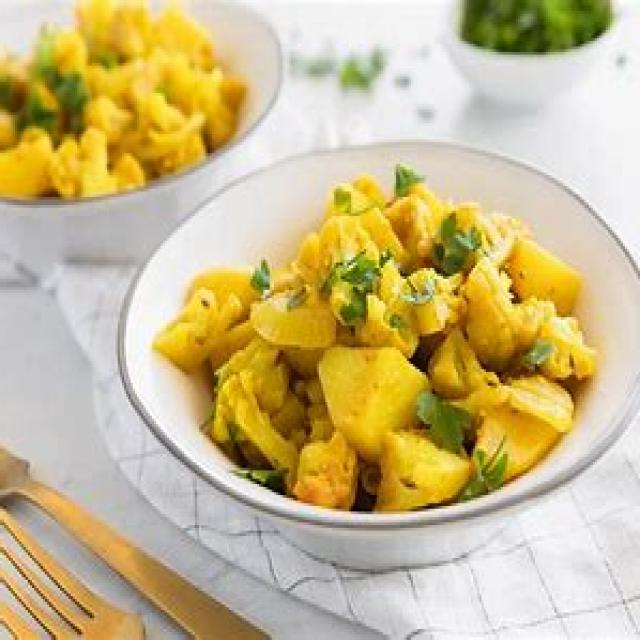Aloo Gobi: (172, 180, 581, 510)
